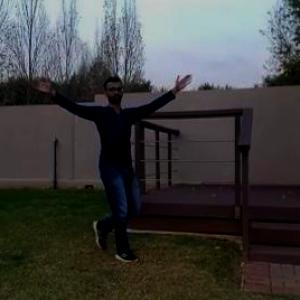takeoff: (26, 70, 186, 266)
